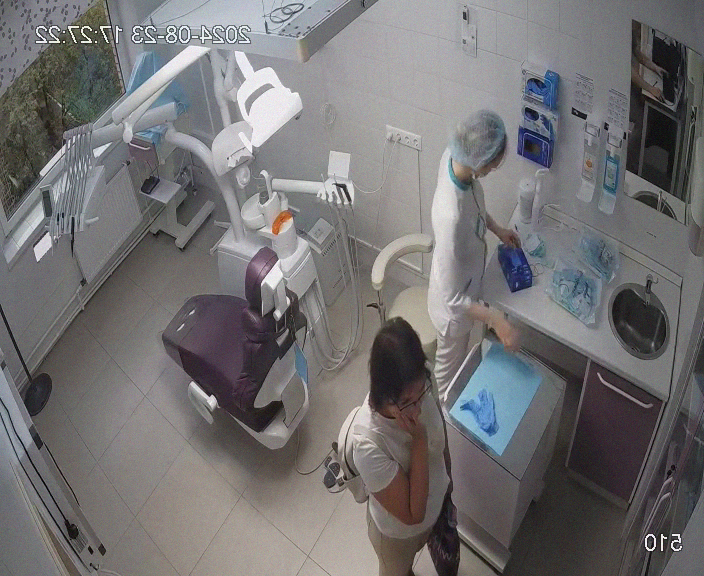Empty: (163, 245, 305, 451)
